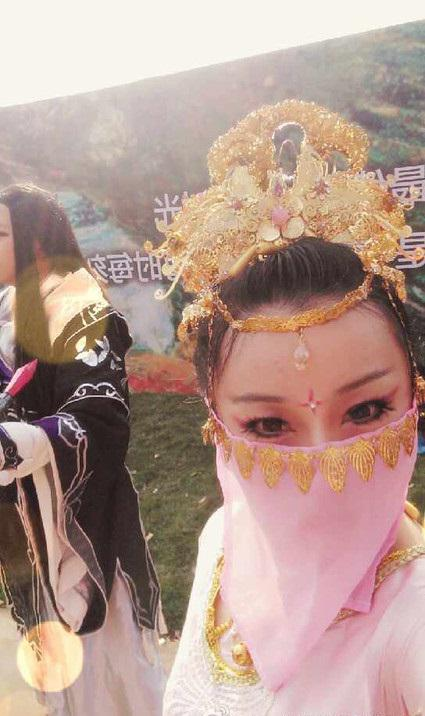OK: (231, 371, 414, 554)
